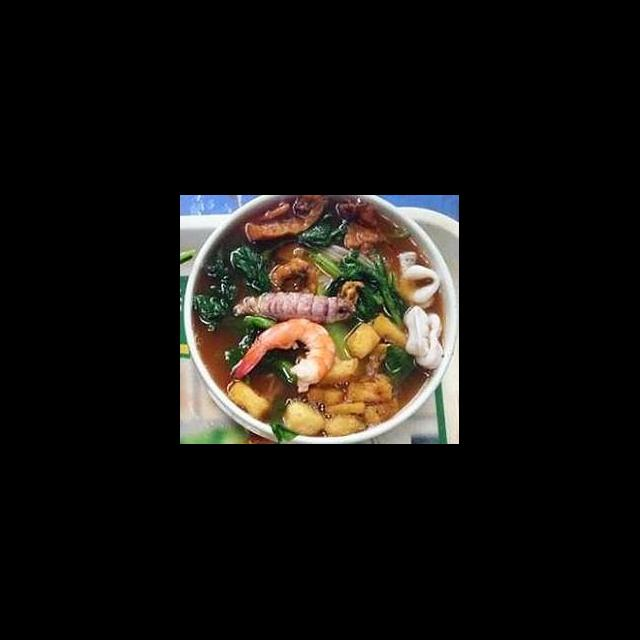bun hai san: (195, 211, 453, 432)
ca: (242, 196, 331, 246), (266, 256, 322, 300)
dau hu: (224, 379, 276, 424), (342, 321, 383, 362), (370, 310, 410, 350)
muc: (399, 302, 446, 372), (398, 262, 443, 308)
tom: (228, 316, 338, 396)
tom tit: (232, 288, 360, 328)
